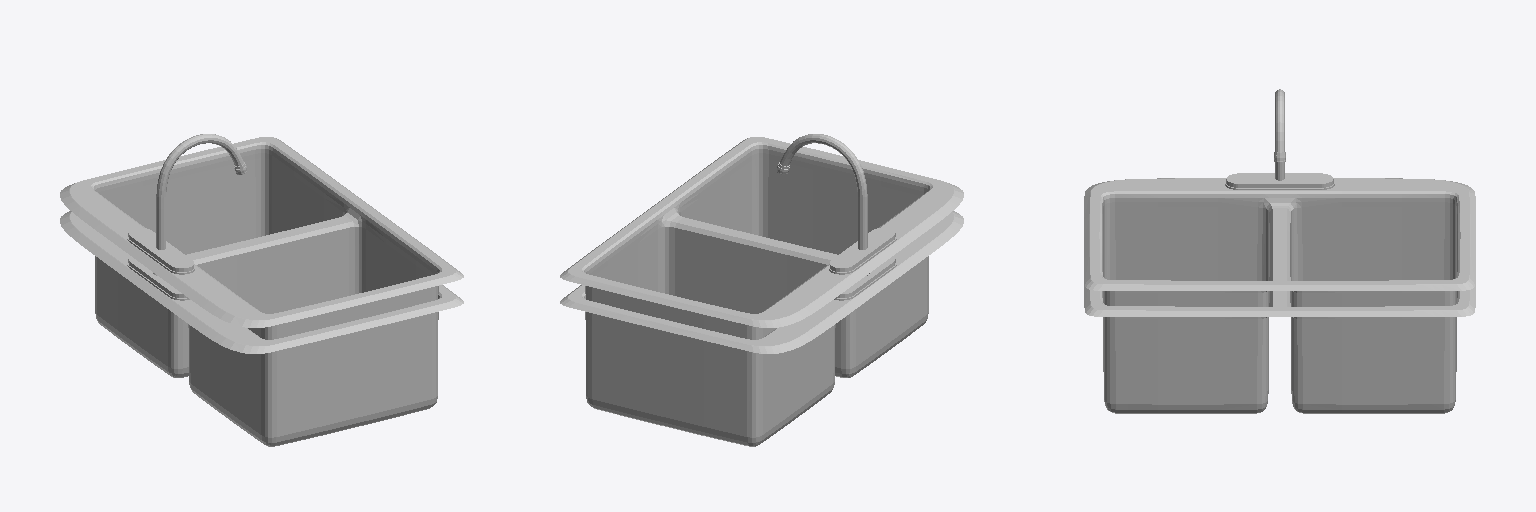
Rendered from kitchen_sink.obj.
3 renders of one model, left to right at view 1: azimuth 30°, elevation 25°; view 2: azimuth 150°, elevation 25°; view 3: azimuth 270°, elevation 25°, orthographic.
Parts seen in each view (by area): view 1: KitchenSink, KitchenSink.001, KitchenSinkFaucet; view 2: KitchenSink, KitchenSink.001, KitchenSinkFaucet; view 3: KitchenSink, KitchenSink.001, KitchenSinkFaucet.
Boxes of the visible parts, <box> form: KitchenSink: <box>60,137,463,339</box>; KitchenSink.001: <box>60,211,463,446</box>; KitchenSinkFaucet: <box>153,134,246,275</box>; KitchenSink: <box>560,137,963,339</box>; KitchenSink.001: <box>560,211,963,446</box>; KitchenSinkFaucet: <box>777,134,870,275</box>; KitchenSink: <box>1084,173,1475,306</box>; KitchenSink.001: <box>1084,282,1475,413</box>; KitchenSinkFaucet: <box>1274,89,1285,180</box>.
Bounding box in the file's own units: 0.5674 × 0.6311 × 0.8332.